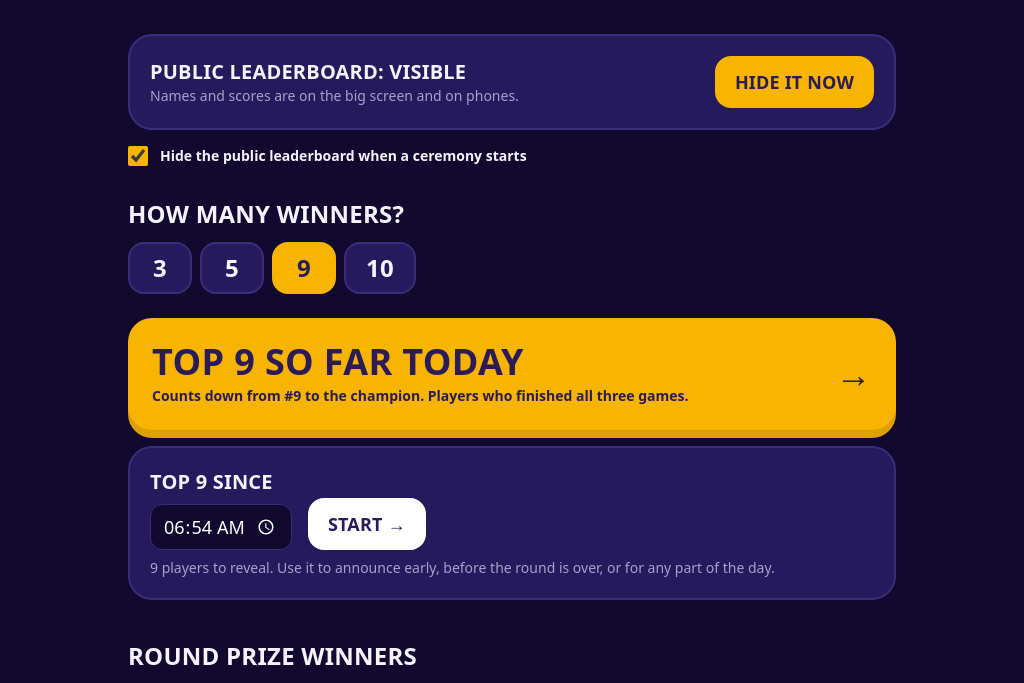
runs the day ceremony from #9 up and hides the public board as it starts
(page scrolled)
Click the button "Top 9 so far today" at (512, 374), box [128, 318, 896, 430]
(page scrolled)
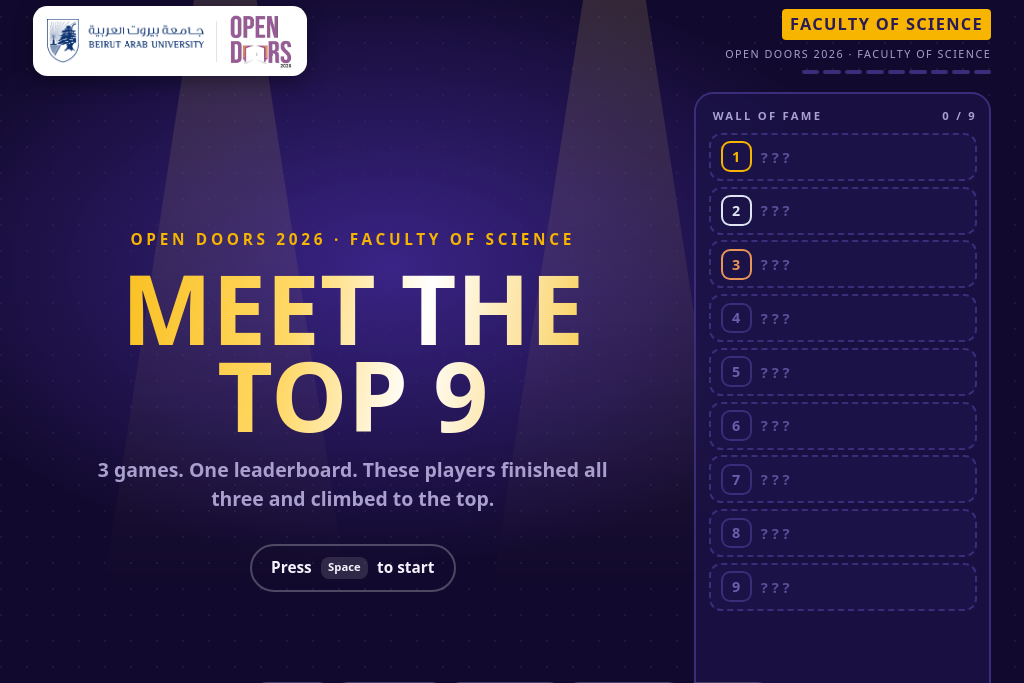
Check: the heading "Meet the Top 9" is shown, box [38, 265, 668, 438]
Check: the number of elements with class "ann-slot" is 9
Press Space
Wait 400 ms
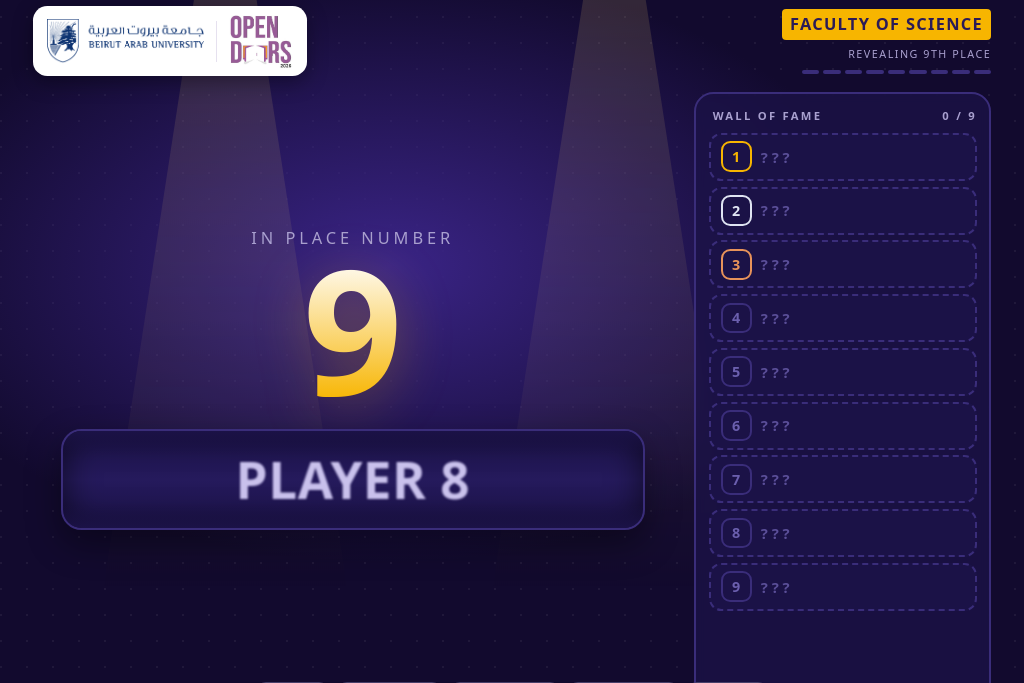
Check: the text with class "ann-no" reads "9", box [303, 210, 403, 446]
Press Space
Wait 500 ms
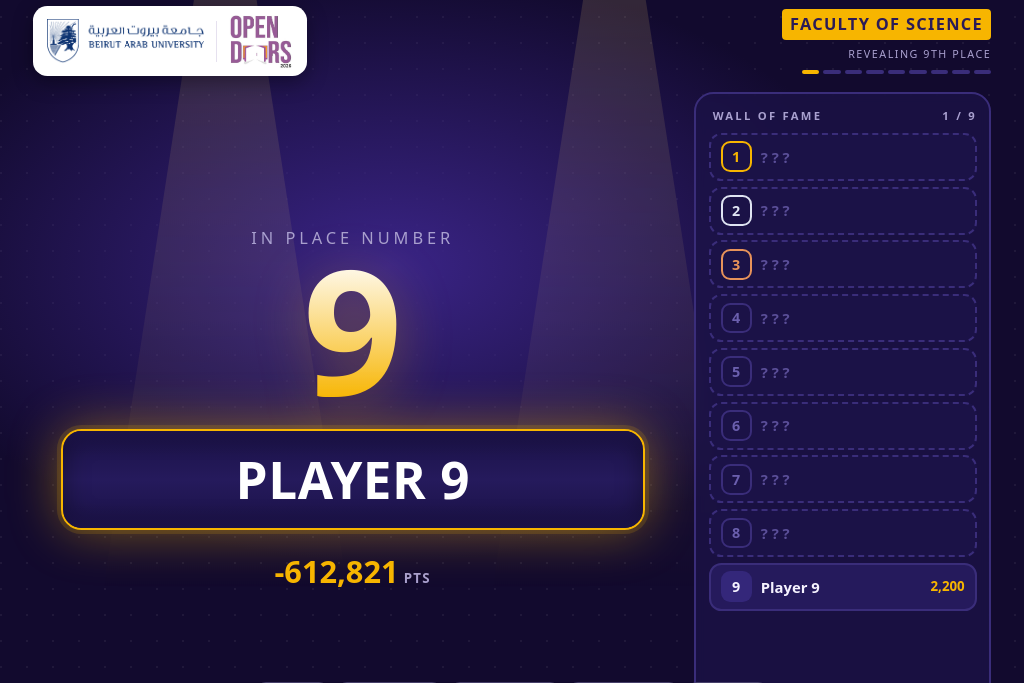
Check: the text with class "ann-nm" reads "Player 9", box [236, 444, 470, 514]
